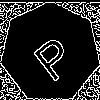P: (25, 27, 78, 84)
